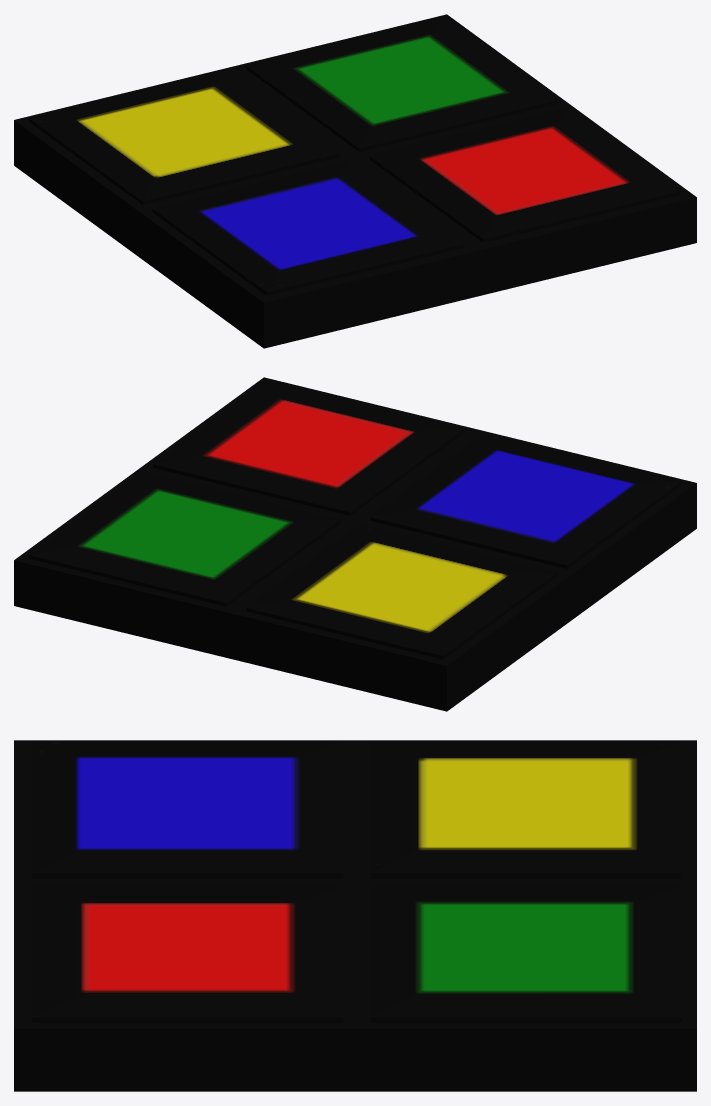
File: Simon.fbx
3 views of the same model, one above another, from view 1: azimuth 30°, elevation 25°; view 2: azimuth 150°, elevation 25°; view 3: azimuth 270°, elevation 25° (orthographic). The views are drawn at different scales.
Parts seen in each view (by area): view 1: Cube; view 2: Cube; view 3: Cube.
Boxes of the visible parts, x1,y1,x2,y2 form: Cube: [14, 14, 696, 348]; Cube: [14, 377, 696, 711]; Cube: [14, 740, 696, 1091].
Bounding box in the file's own units: 200 × 23.04 × 200.
